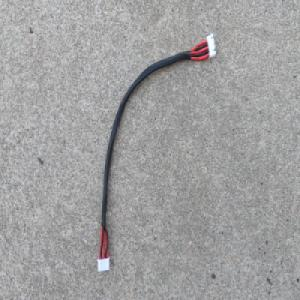Wire: (96, 31, 217, 273)
